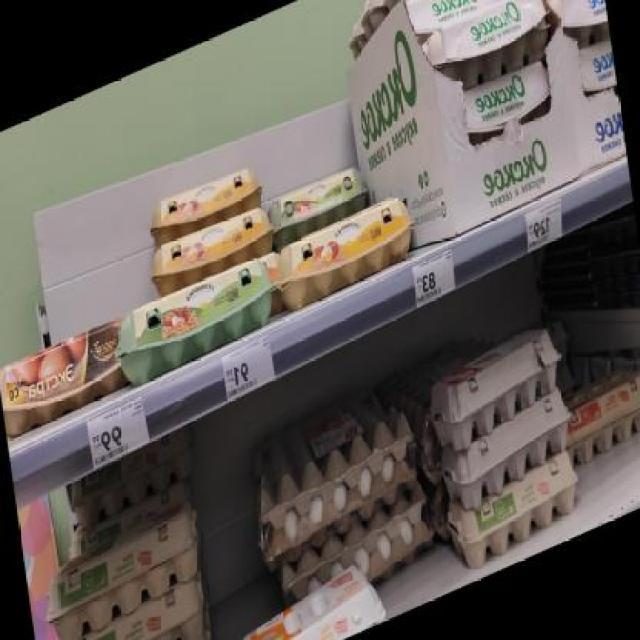egg: (111, 252, 277, 399), (40, 496, 206, 640), (270, 180, 418, 318), (446, 445, 584, 578), (0, 308, 129, 450), (59, 433, 192, 550), (222, 553, 390, 639), (147, 197, 275, 303), (426, 0, 554, 100), (143, 153, 266, 254), (266, 152, 372, 252), (48, 577, 212, 640), (460, 52, 556, 146), (560, 356, 640, 467), (406, 0, 502, 45), (552, 0, 610, 54), (576, 36, 616, 102)
